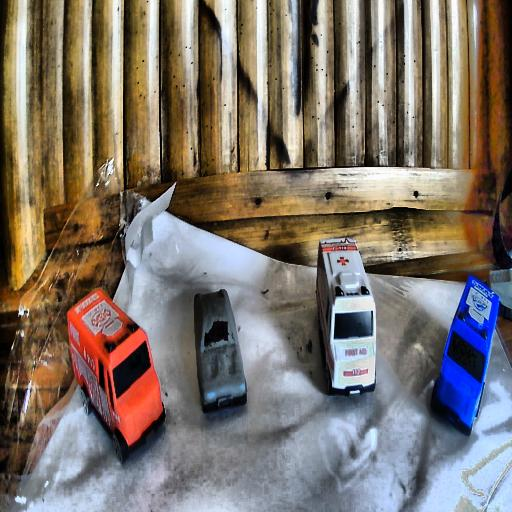ambulance: (316, 236, 378, 397)
fire_truck: (68, 288, 166, 463)
normal_car: (193, 290, 248, 414)
police car: (430, 273, 498, 435)
